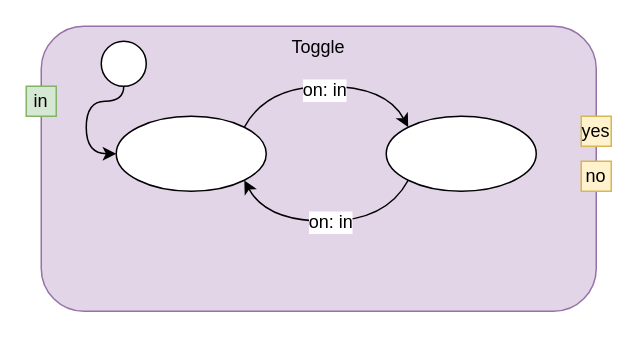
Some shapes in this 638 by 338 pixel diagram are drawn without their labels. Each missing label, with the centre of its shape:
"off fire(no, true)" goes at pixel 190 153.
"on fire(yes, true)" goes at pixel 460 153.
